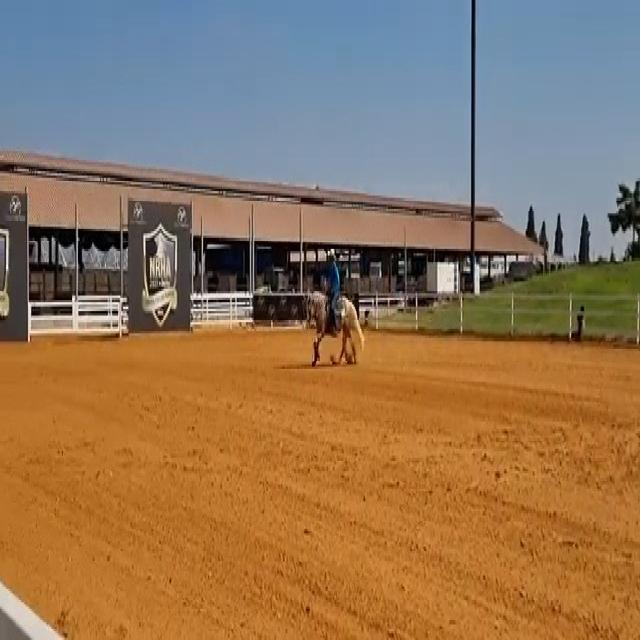horse: (300, 282, 366, 369)
